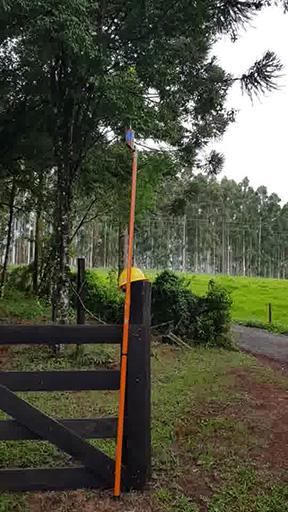Vara_Manobra: (113, 150, 138, 497)
